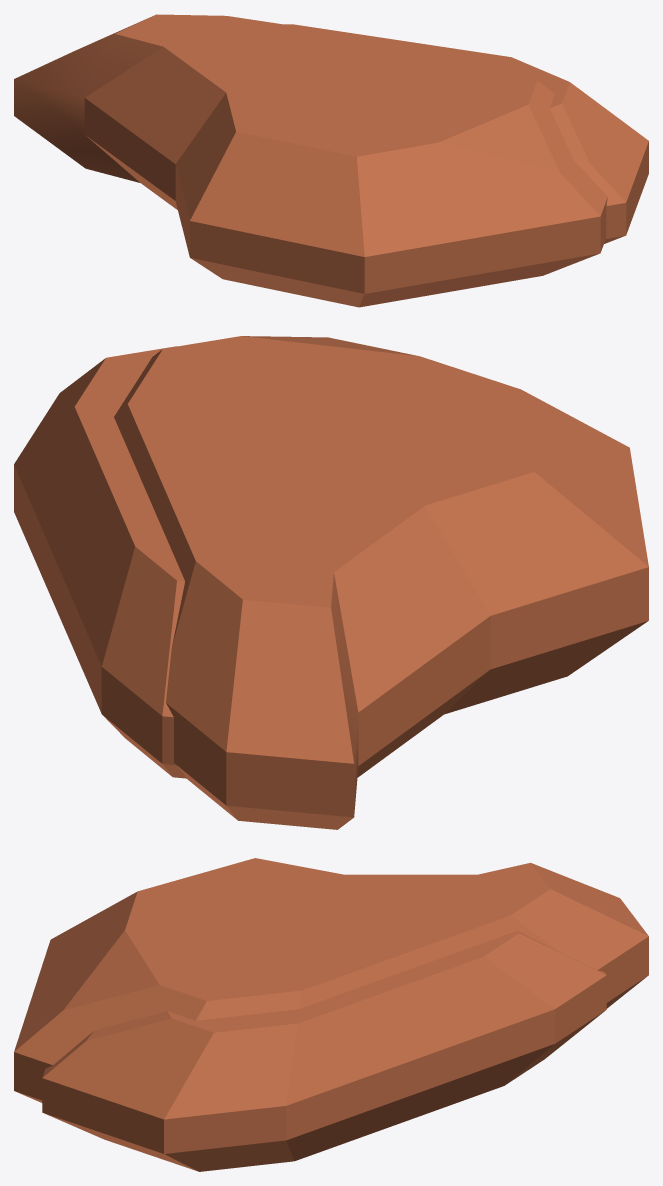
The model's file is sandbag.glb.
3 views of the same model, one above another, from view 1: azimuth 30°, elevation 25°; view 2: azimuth 150°, elevation 25°; view 3: azimuth 270°, elevation 25° (orthographic). The views are drawn at different scales.
Bounding box in the file's own units: 3.79 × 1.17 × 4.57.
